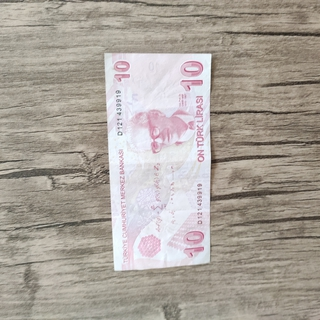10TLBack: (103, 51, 211, 272)
